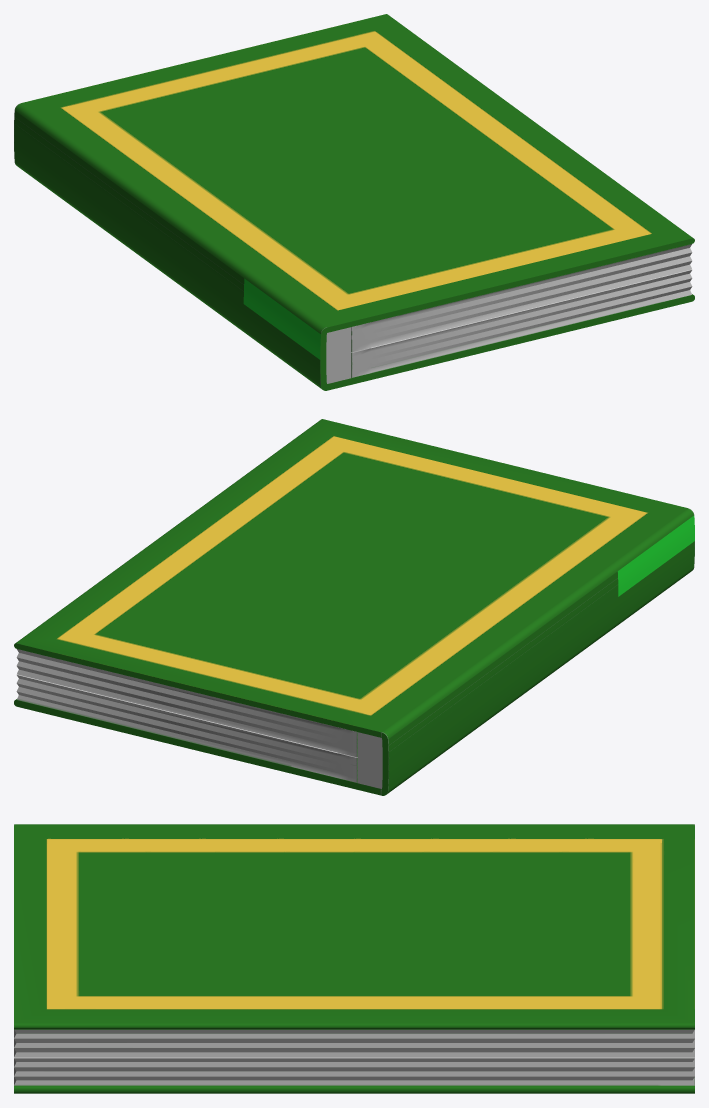
3 views of the same model, one above another, from view 1: azimuth 30°, elevation 25°; view 2: azimuth 150°, elevation 25°; view 3: azimuth 270°, elevation 25° (orthographic). The views are drawn at different scales.
Parts seen in each view (by area): view 1: 蓝书_绿; view 2: 蓝书_绿; view 3: 蓝书_绿.
Part boxes in pixels (x1,y1,x2,y2): 蓝书_绿: (14, 14, 694, 390); 蓝书_绿: (14, 419, 694, 795); 蓝书_绿: (14, 824, 694, 1093).
Size of the model in its own units: 142 by 22.97 by 202.
